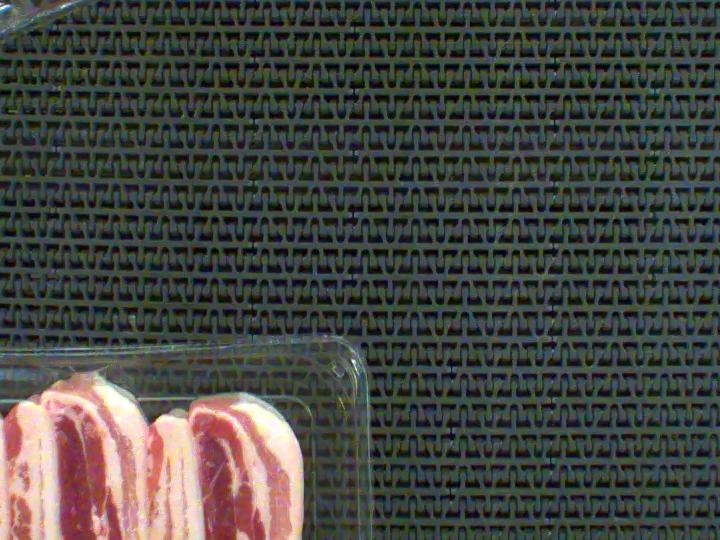packaging-error: (2, 315, 145, 404)
